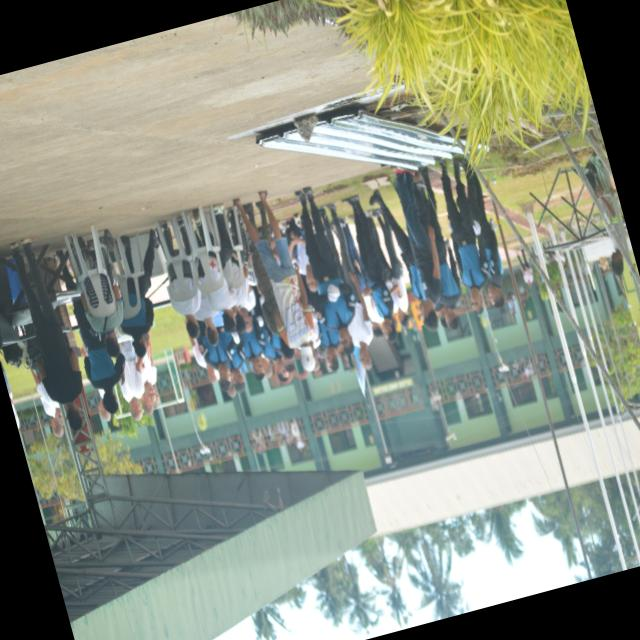person: (233, 191, 314, 370), (10, 237, 82, 430), (294, 186, 355, 353), (319, 203, 372, 369), (435, 157, 487, 313), (341, 195, 396, 342), (394, 167, 441, 330), (414, 167, 460, 329), (369, 189, 425, 318), (72, 296, 123, 413), (464, 160, 503, 308), (120, 229, 158, 356), (341, 221, 382, 337), (372, 209, 409, 327), (76, 274, 122, 356), (247, 235, 278, 333), (167, 260, 200, 337), (285, 214, 316, 291), (120, 340, 152, 414), (205, 203, 232, 279), (142, 331, 159, 407), (189, 336, 216, 383), (118, 373, 141, 421), (238, 285, 254, 331), (516, 249, 532, 287)
